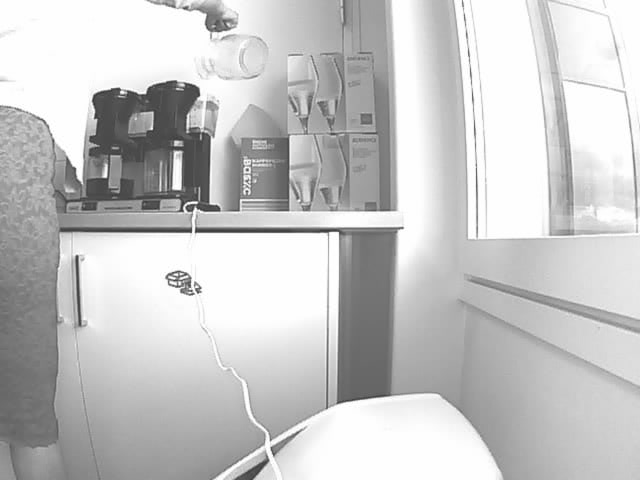empty coffee: (149, 140, 194, 196)
not empty coffee: (85, 144, 137, 197)
